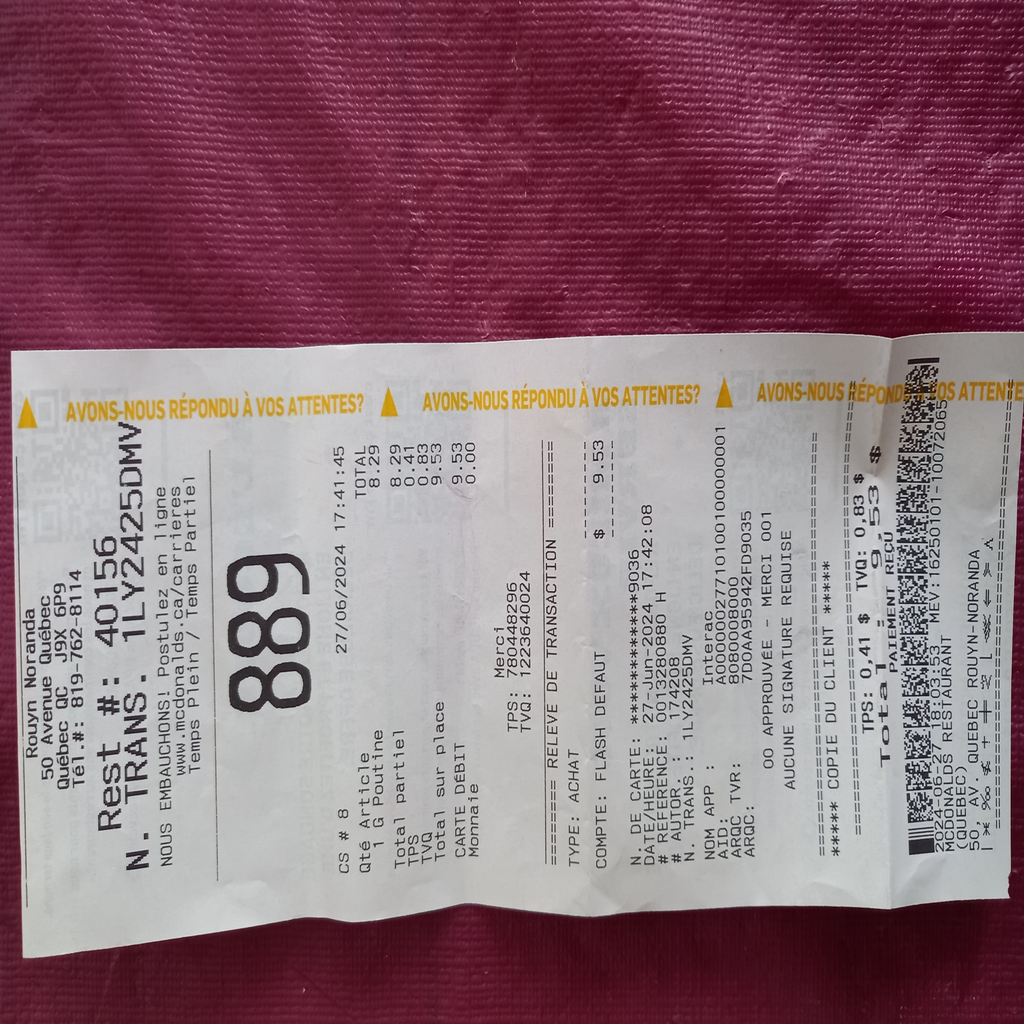recipt: (10, 329, 1024, 959)
